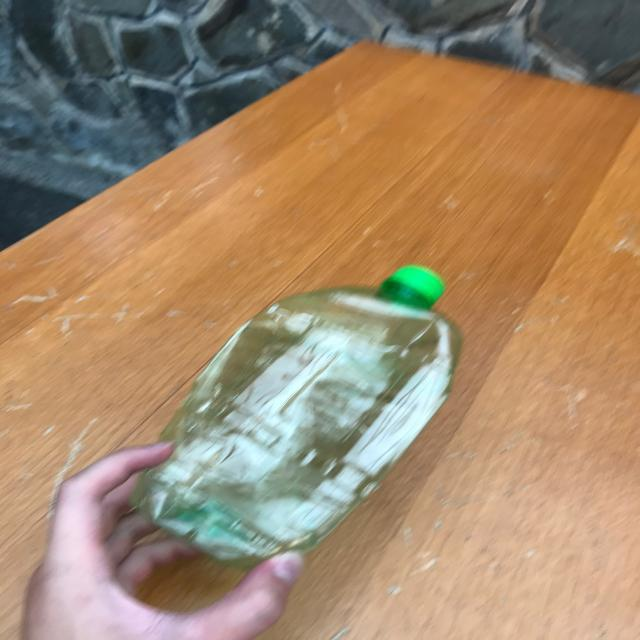plastic_bottle: (126, 264, 461, 570)
